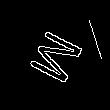M_SE: (22, 23, 88, 87)
